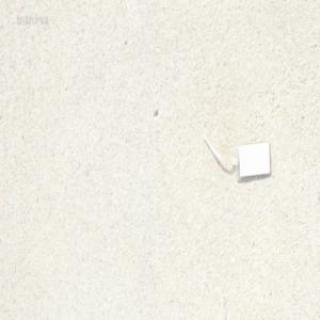LuggageTagtrack_idkeyframe: (195, 133, 269, 181)
